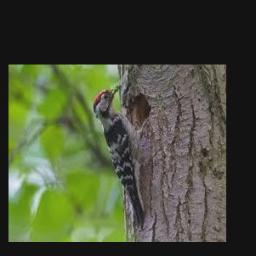Woodpecker: (94, 84, 151, 229)
